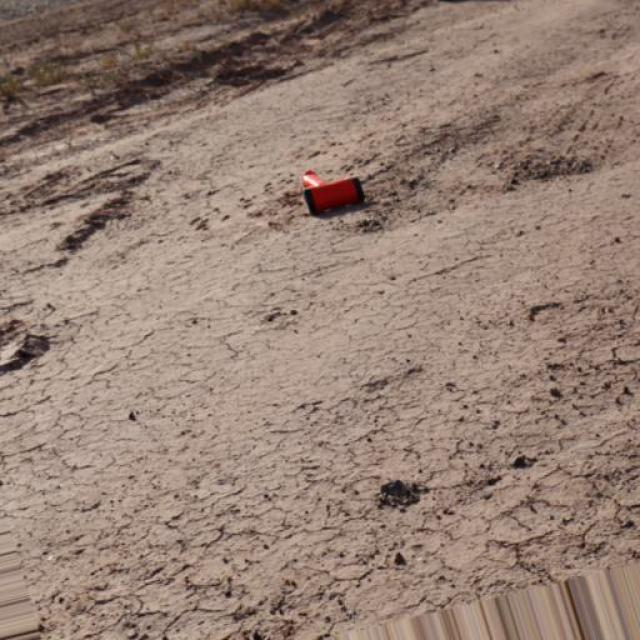mallet: (299, 168, 365, 216)
